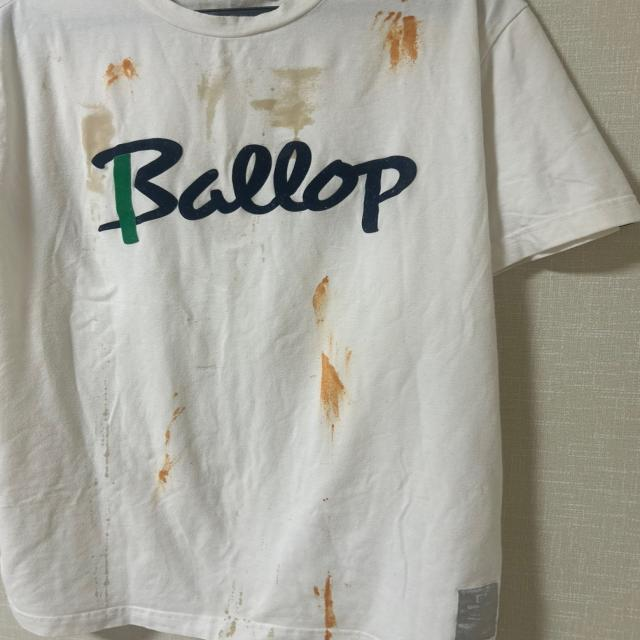stain: (318, 351, 346, 440), (77, 103, 114, 147), (82, 145, 108, 195), (268, 113, 312, 141), (312, 275, 332, 327), (102, 385, 112, 478), (249, 100, 314, 113), (92, 564, 111, 608), (403, 14, 420, 61), (269, 66, 326, 80), (323, 574, 335, 640), (387, 25, 404, 71), (272, 83, 311, 100), (208, 85, 220, 138), (101, 59, 120, 92), (119, 55, 142, 81), (154, 462, 172, 488), (228, 585, 246, 610), (218, 60, 232, 90), (372, 10, 402, 23), (170, 407, 185, 429), (325, 334, 338, 358), (254, 243, 268, 264), (227, 617, 240, 639), (273, 564, 284, 590), (198, 75, 210, 98), (104, 531, 111, 565), (343, 349, 355, 366), (311, 585, 324, 600), (286, 77, 312, 84), (163, 430, 173, 448), (251, 216, 261, 231), (104, 509, 114, 524), (339, 580, 353, 590), (266, 629, 278, 639), (128, 85, 136, 99), (162, 453, 171, 465), (173, 389, 182, 401), (92, 476, 100, 489), (322, 494, 328, 505)
